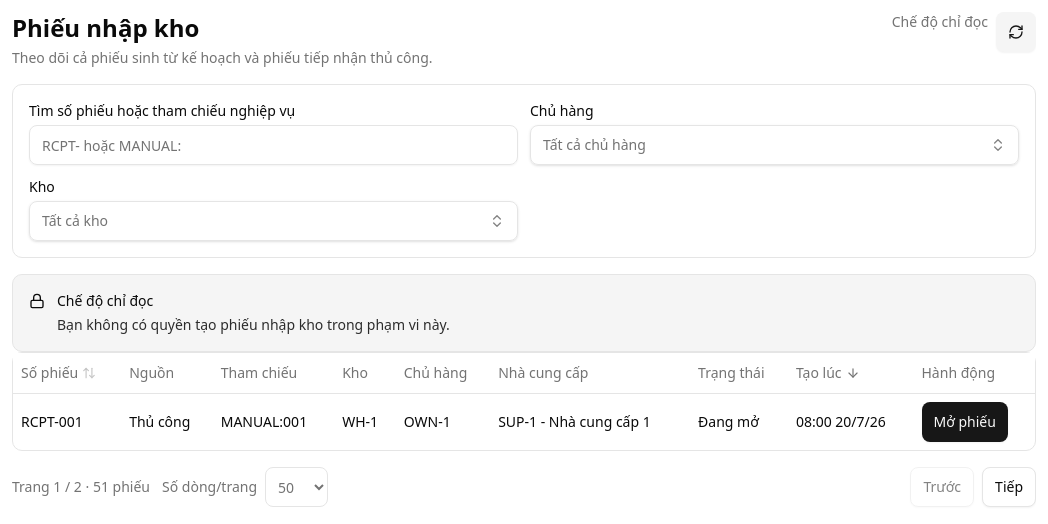
Test: InboundReceivingPage › accepts the valid page returned by the server when the requested page is clamped
Click the button "Tiếp": (1009, 487) [982,467,1036,507]
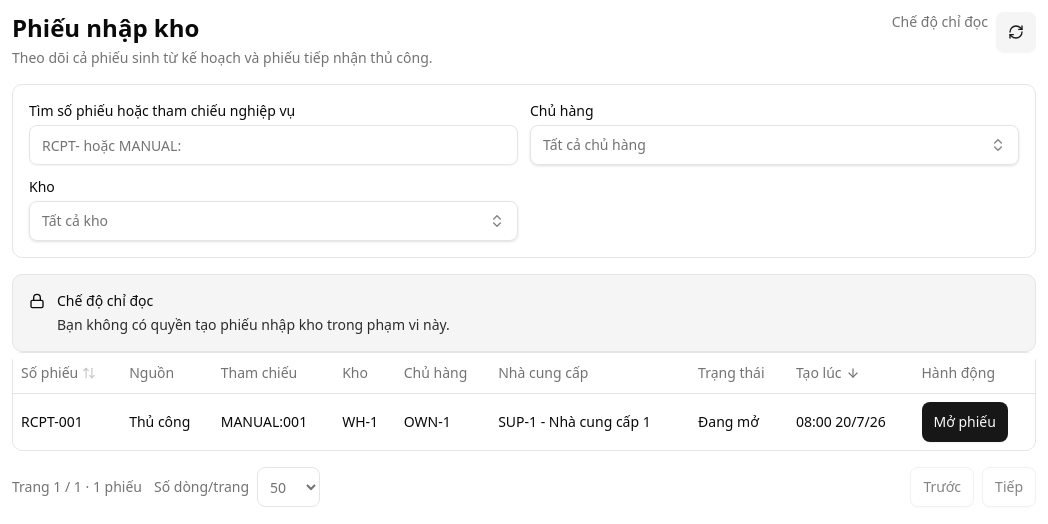
Result: the text "Trang 1 / 1 · 1 phiếu" is shown at [12,477,142,497]
